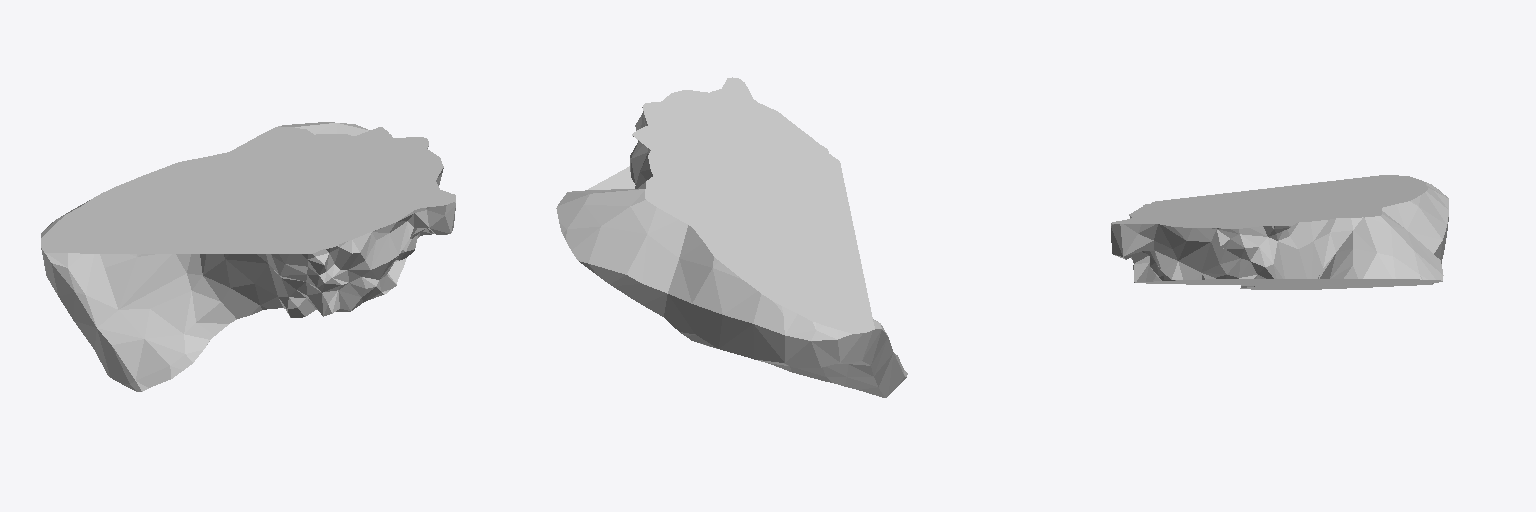
The model's file is bust2.obj.
3 views of the same model, side by side, from view 1: azimuth 30°, elevation 25°; view 2: azimuth 150°, elevation 25°; view 3: azimuth 270°, elevation 25° (orthographic).
Visible parts, largest first — view 1: hercules; view 2: hercules; view 3: hercules.
Part boxes in pixels (bbox=[...]): hercules: bbox=[41, 122, 455, 391]; hercules: bbox=[556, 77, 907, 397]; hercules: bbox=[1111, 175, 1448, 289].
Bounding box in the file's own units: 15.09 × 8.94 × 13.89.